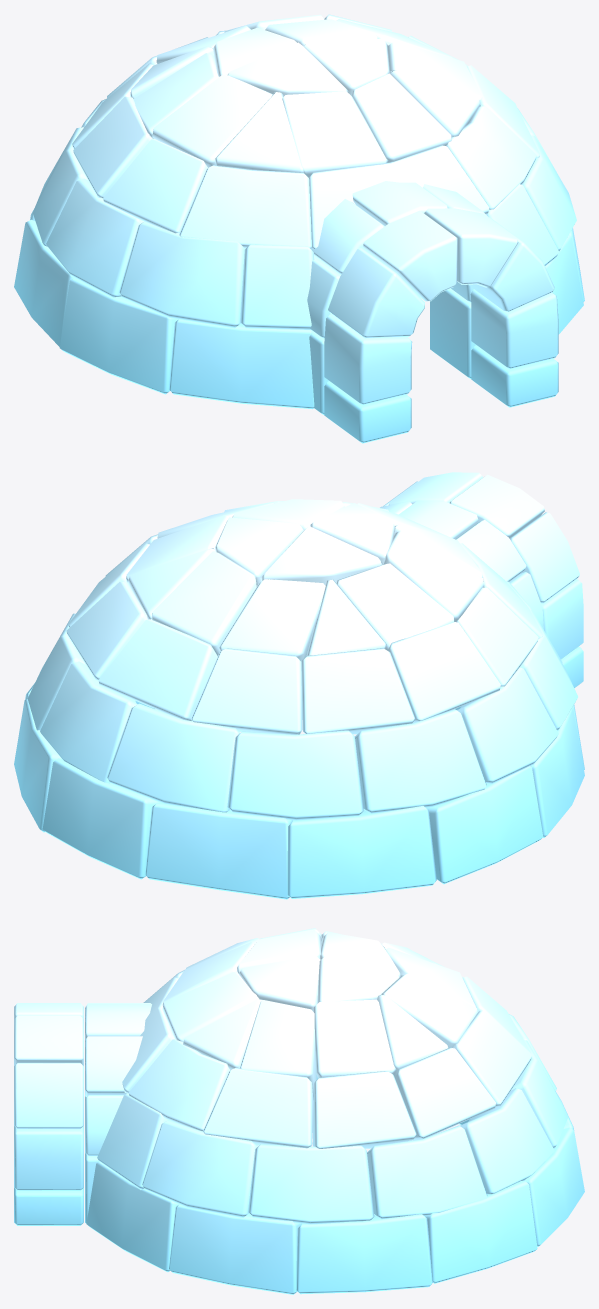
File: igloo_001.glb
The picture shows the model from 3 angles, top to bottom: view 1: azimuth 30°, elevation 25°; view 2: azimuth 150°, elevation 25°; view 3: azimuth 270°, elevation 25°; orthographic projection. The views are drawn at different scales.
Parts seen in each view (by area): view 1: igloo_001; view 2: igloo_001; view 3: igloo_001.
Boxes of the visible parts, left/top/right/bottom form: igloo_001: left=14, top=14, right=584, bottom=443; igloo_001: left=14, top=472, right=584, bottom=899; igloo_001: left=14, top=928, right=584, bottom=1294.
Size of the model in its own units: 7.12 by 3.58 by 7.88.
1 material, 1 textured.
